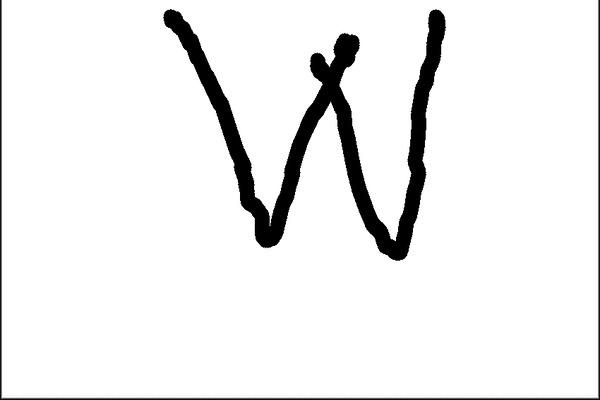w: (152, 5, 459, 264)
